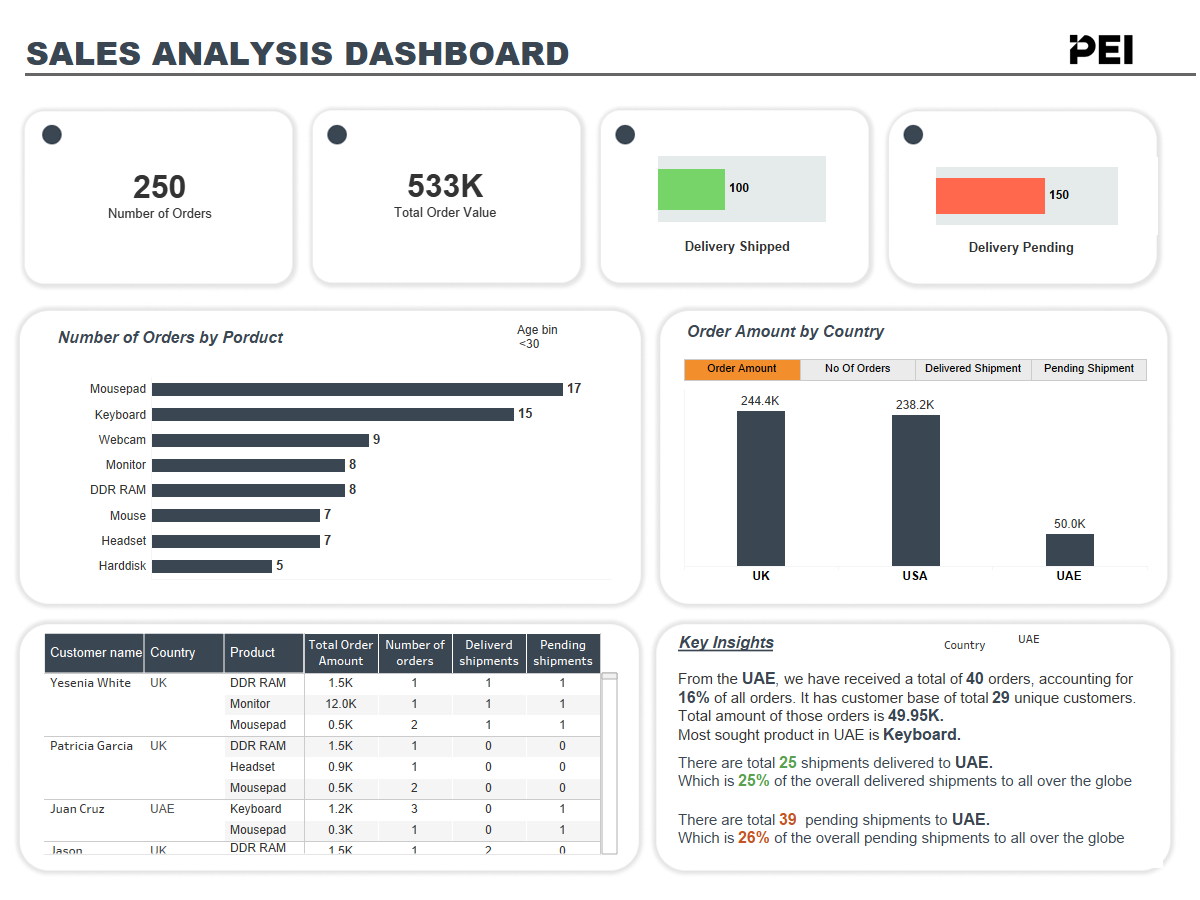

Layout of this report page (visuals, bound fields, positions):
{"tool":"tableau","page":{"name":"Sales Dashboard","canvas":[1200,900],"ordinal":0},"visuals":[{"type":"image","param":"Image/Slide 16_9 - 1 (3).png","box":[8,8,1184,884]},{"type":"text","box":[19,14,1153,77]},{"type":"image","param":"Image/Screenshot 2024-08-13 112116.png","box":[1066,33,123,33]},{"type":"blank","box":[25,73,1171,3]},{"type":"worksheet","title":"Total Order Value","mark":"Automatic","box":[321,113,249,163]},{"type":"worksheet","title":"Numer of Orders","mark":"Automatic","box":[40,117,240,157]},{"type":"worksheet","title":"Delivered Shipements","mark":"Bar","cols":["Order.csv_B2B350566D9D497A82C44358F2469C0A","Pending orders (copy)_217580207142842378"],"box":[658,145,206,88]},{"type":"worksheet","title":"Pending Shipments ","mark":"Bar","cols":["Order.csv_B2B350566D9D497A82C44358F2469C0A","Calculation_217580207142666249"],"box":[936,157,221,77]},{"type":"text","box":[682,232,117,30]},{"type":"text","box":[966,233,111,30]},{"type":"text","box":[51,318,564,40]},{"type":"text","box":[680,319,471,26]},{"type":"filter","title":"Number of orders by product (2)","param":"[federated.12ubhfr1autf8x1fl4gof0k07tdr].[none:Calculation_217580207025618944:nk","box":[517,322,102,40]},{"type":"blank","box":[680,345,471,10]},{"type":"worksheet","title":"Contorl Sheet","mark":"Square","rows":["Calculation_217580207144108046"],"cols":["Metric","Calculation_217580207144079372"],"box":[680,355,471,30]},{"type":"worksheet","title":"Number of orders by product (2)","mark":"Automatic","rows":["Item"],"cols":["Calculation_217580207026401281"],"box":[51,358,564,225]},{"type":"worksheet","title":"Country view Bar chart","mark":"Bar","rows":["Calculation_217580207144341519"],"cols":["Country"],"box":[680,385,471,205]},{"type":"text","box":[676,628,101,30]},{"type":"worksheet","title":"Customer table","mark":"Automatic","rows":["Calculation_217580207026528258","Country","Item"],"box":[40,629,582,230]},{"type":"filter","title":"Orders","param":"[federated.12ubhfr1autf8x1fl4gof0k07tdr].[none:Country:nk]","box":[944,631,199,26]},{"type":"worksheet","title":"Orders","mark":"Automatic","box":[674,663,488,90]},{"type":"worksheet","title":"Delivery text","mark":"Automatic","box":[674,753,488,56.5]},{"type":"worksheet","title":"Shipment text","mark":"Automatic","box":[674,809.5,488,56.5]}]}

Visuals, with their boxes in screenshot pixels (x1, y1, x2, y2), scaled from the page's 1200x900 canvas onto the 1200x900 screenshot:
image: left=8, top=8, right=1192, bottom=892
text: left=19, top=14, right=1172, bottom=91
image: left=1066, top=33, right=1189, bottom=66
blank: left=25, top=73, right=1196, bottom=76
"Total Order Value" worksheet: left=321, top=113, right=570, bottom=276
"Numer of Orders" worksheet: left=40, top=117, right=280, bottom=274
"Delivered Shipements" worksheet (Bar marks): left=658, top=145, right=864, bottom=233
"Pending Shipments " worksheet (Bar marks): left=936, top=157, right=1157, bottom=234
text: left=682, top=232, right=799, bottom=262
text: left=966, top=233, right=1077, bottom=263
text: left=51, top=318, right=615, bottom=358
text: left=680, top=319, right=1151, bottom=345
"Number of orders by product (2)" filter: left=517, top=322, right=619, bottom=362
blank: left=680, top=345, right=1151, bottom=355
"Contorl Sheet" worksheet (Square marks): left=680, top=355, right=1151, bottom=385
"Number of orders by product (2)" worksheet: left=51, top=358, right=615, bottom=583
"Country view Bar chart" worksheet (Bar marks): left=680, top=385, right=1151, bottom=590
text: left=676, top=628, right=777, bottom=658
"Customer table" worksheet: left=40, top=629, right=622, bottom=859
"Orders" filter: left=944, top=631, right=1143, bottom=657
"Orders" worksheet: left=674, top=663, right=1162, bottom=753
"Delivery text" worksheet: left=674, top=753, right=1162, bottom=810
"Shipment text" worksheet: left=674, top=810, right=1162, bottom=866
